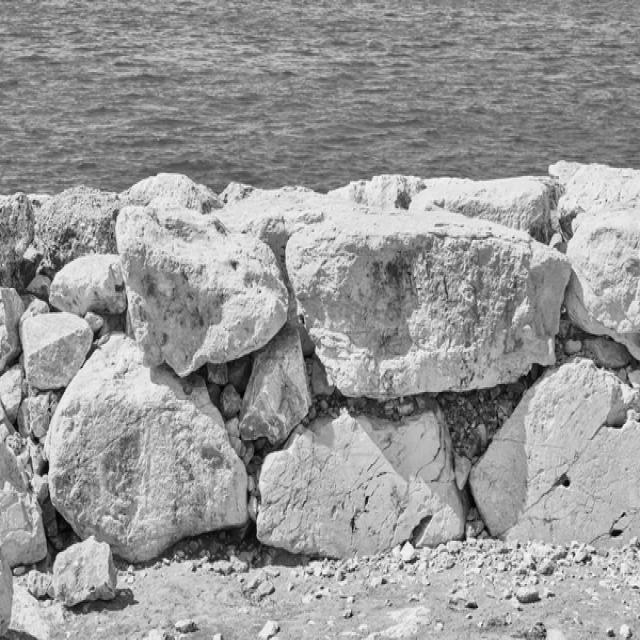Stone: (287, 208, 572, 399), (50, 362, 246, 563), (257, 408, 465, 559), (470, 360, 640, 543), (116, 200, 289, 377), (216, 186, 336, 319), (566, 235, 640, 359), (411, 176, 550, 242), (240, 324, 311, 446), (36, 186, 121, 270), (21, 312, 92, 390), (557, 165, 640, 229), (51, 535, 120, 608), (50, 254, 127, 316), (0, 483, 47, 568), (0, 192, 34, 289), (0, 287, 23, 373)
